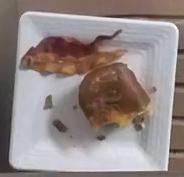bacon: (20, 30, 121, 75)
donut: (79, 63, 150, 130)
